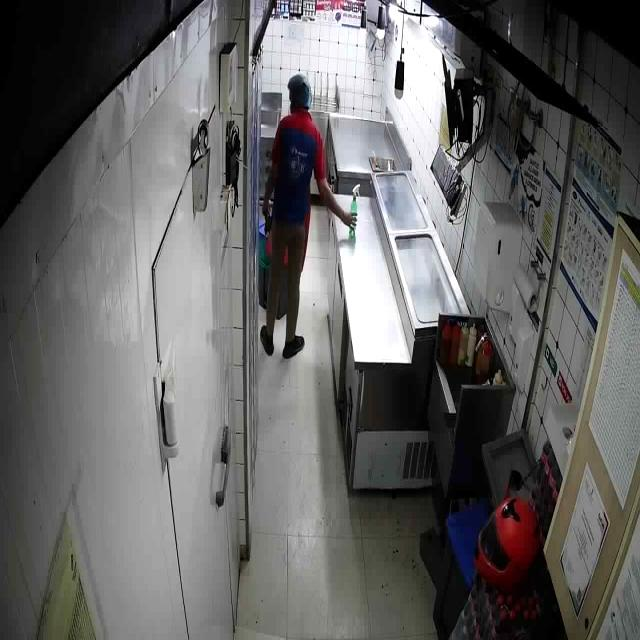helmet: (473, 496, 541, 585)
